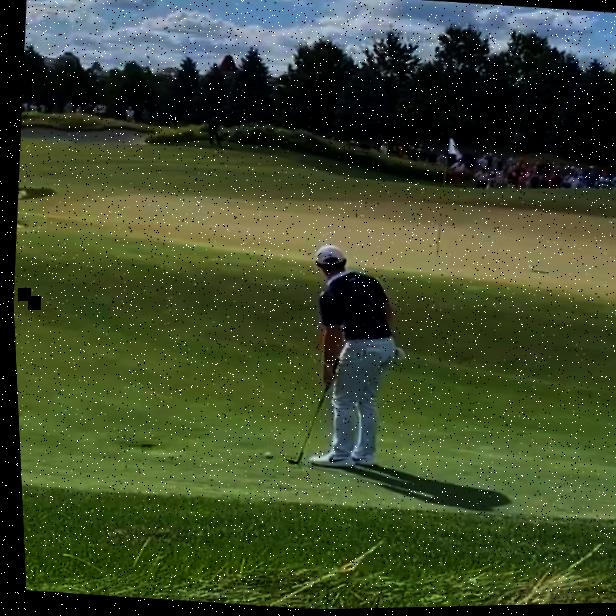ClubHead: (283, 458, 293, 465)
GolfBall: (259, 453, 267, 460)
